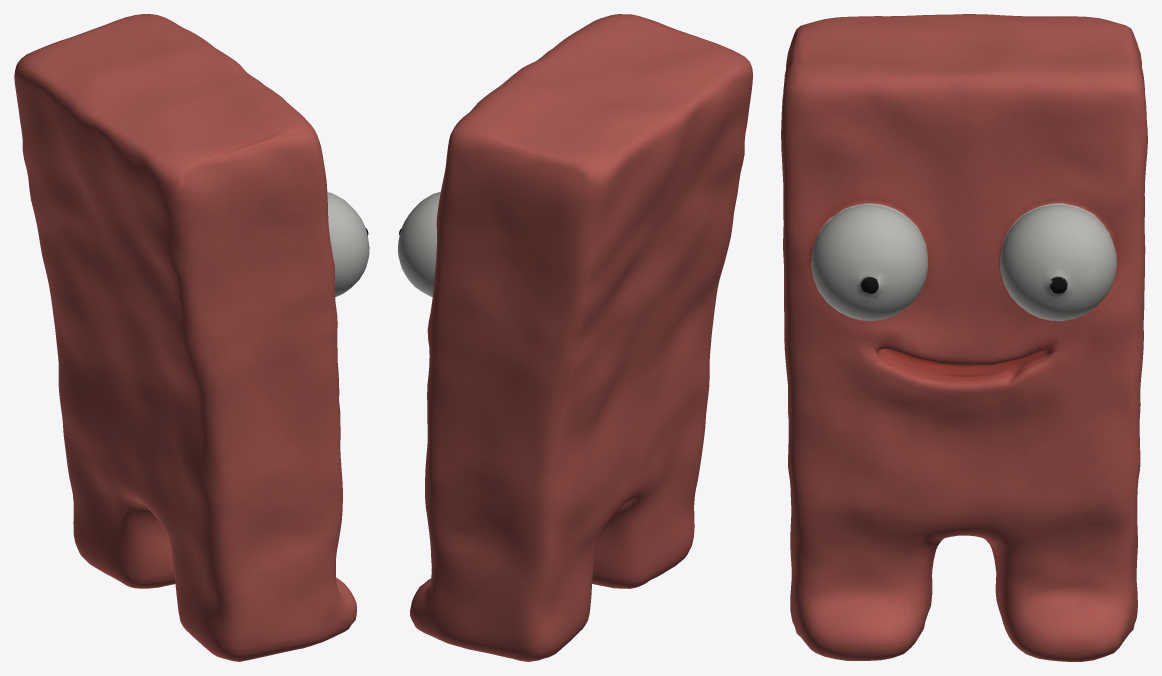
The model's file is sal.glb.
3 renders of one model, left to right at view 1: azimuth 30°, elevation 25°; view 2: azimuth 150°, elevation 25°; view 3: azimuth 270°, elevation 25°, orthographic. The views are drawn at different scales.
Visible parts, largest first — view 1: tripo_node_85d0ab03; view 2: tripo_node_85d0ab03; view 3: tripo_node_85d0ab03.
Part boxes in pixels (x1=…): tripo_node_85d0ab03: x1=14, y1=14, x2=369, y2=661; tripo_node_85d0ab03: x1=398, y1=14, x2=752, y2=661; tripo_node_85d0ab03: x1=781, y1=14, x2=1147, y2=661.
Size of the model in its own units: 0.4718 by 0.9998 by 0.5886.
1 material, 1 textured.
